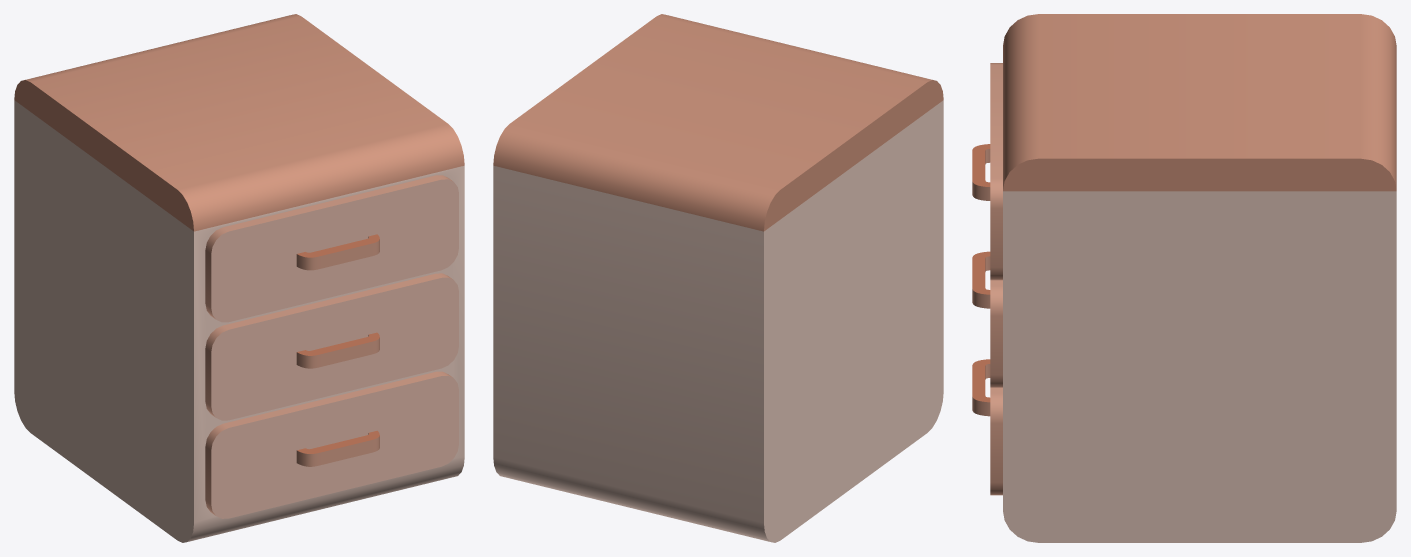
The model's file is Cupboard B.fbx.
The picture shows the model from 3 angles, left to right: view 1: azimuth 30°, elevation 25°; view 2: azimuth 150°, elevation 25°; view 3: azimuth 270°, elevation 25°; orthographic projection. The views are drawn at different scales.
Visible parts, largest first — view 1: Cupboard, Cupboard.011, Cupboard.009, Cupboard.012; view 2: Cupboard; view 3: Cupboard, Cupboard.009, Cupboard.012, Cupboard.011.
Part boxes in pixels (<box>): Cupboard: <box>14,14,464,542</box>; Cupboard.011: <box>205,273,458,420</box>; Cupboard.009: <box>205,175,458,322</box>; Cupboard.012: <box>205,371,458,518</box>; Cupboard: <box>493,14,943,542</box>; Cupboard: <box>1003,14,1396,542</box>; Cupboard.009: <box>972,63,1002,280</box>; Cupboard.012: <box>972,359,1002,495</box>; Cupboard.011: <box>972,251,1002,387</box>.
Size of the model in its own units: 1.43 by 1.78 by 1.78.
